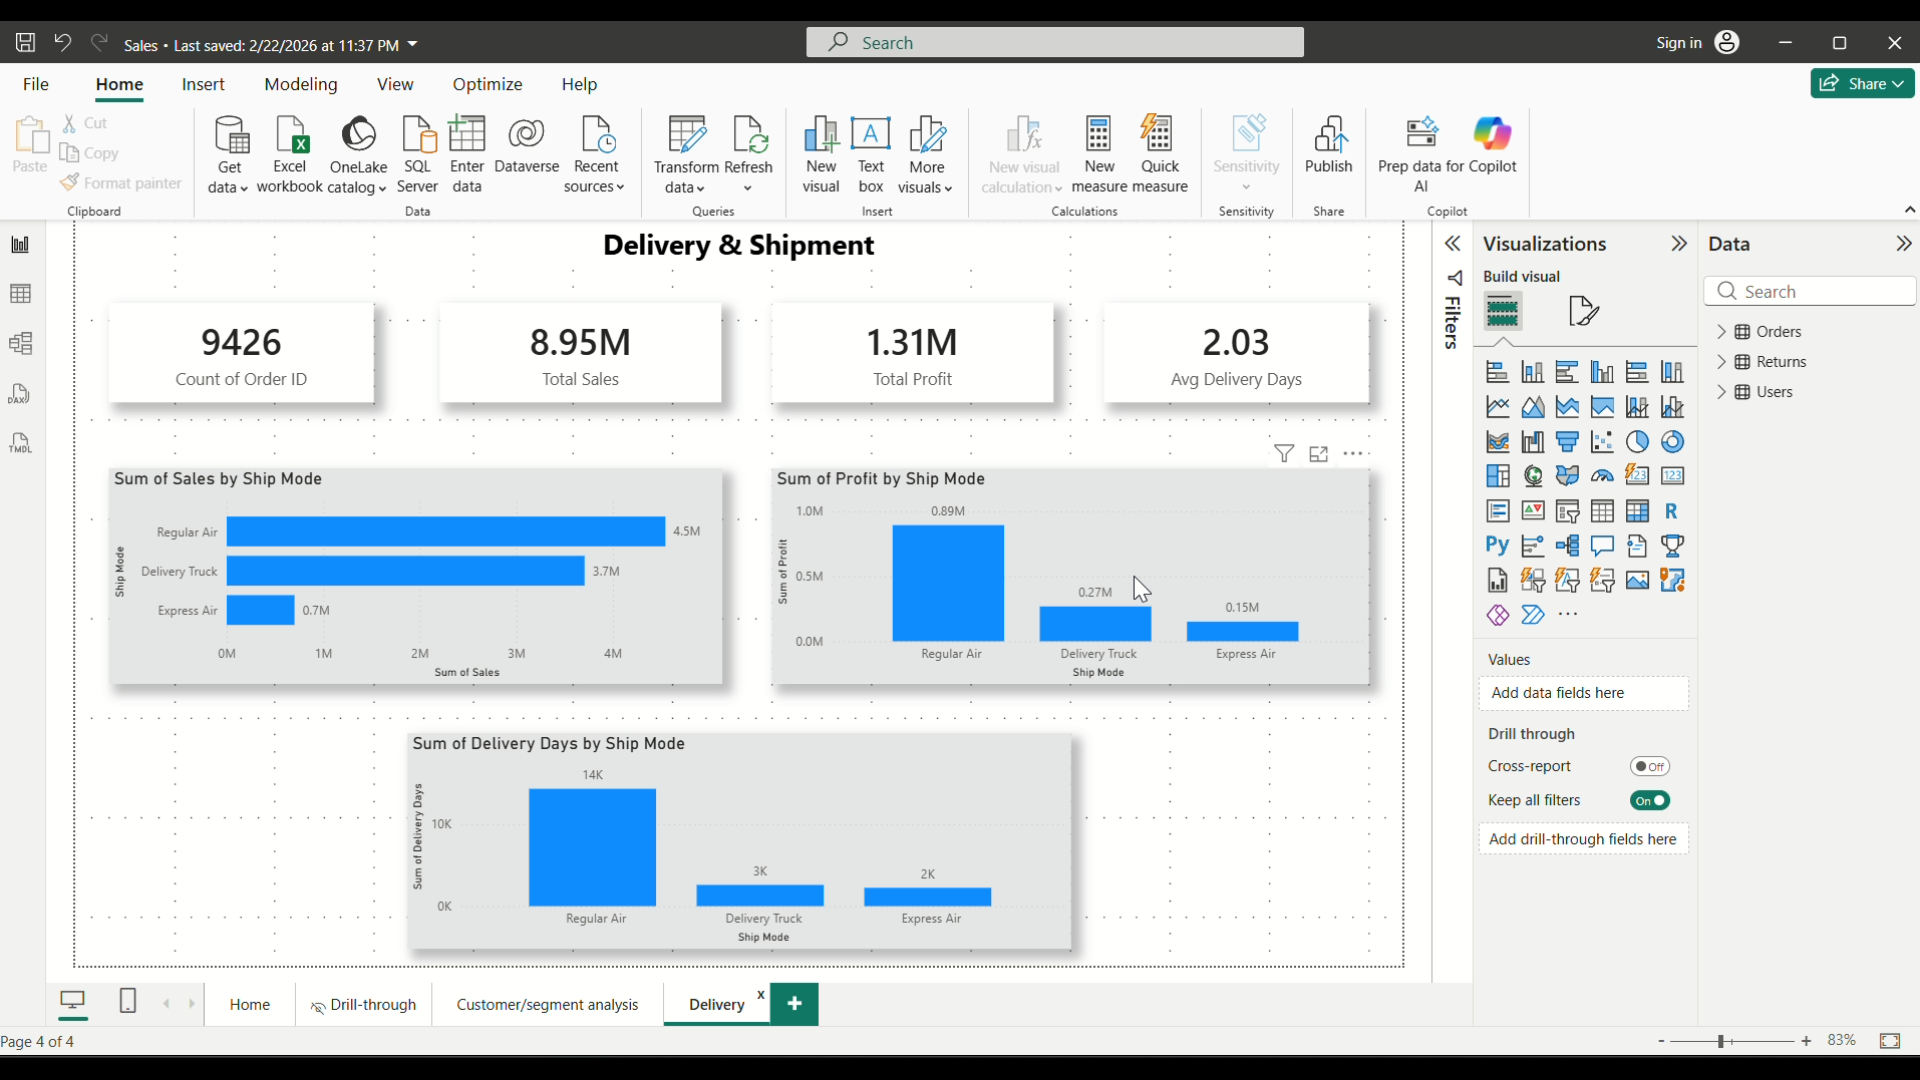

This screenshot's page, from the dashboard's own definition file:
{"tool":"powerbi","page":{"name":"Delivery","canvas":[1280,720],"ordinal":3},"visuals":[{"type":"textbox","box":[408,0,464,48],"z":0},{"type":"card","fields":{"Values":["CountNonNull(Orders.Order ID)"]},"box":[32,80,256,96],"z":1000},{"type":"card","fields":{"Values":["Orders.Total Sales"]},"box":[352,80,272,96],"z":2000},{"type":"card","fields":{"Values":["Orders.Total Profit"]},"box":[672,80,272,96],"z":3000},{"type":"card","fields":{"Values":["Orders.Avg Delivery Days"]},"box":[992,80,256,96],"z":4000},{"type":"barChart","fields":{"Y":["Sum(Orders.Sales)"],"Category":["Orders.Ship Mode"]},"box":[32,240,592,208],"z":5000},{"type":"columnChart","fields":{"Y":["Sum(Orders.Profit)"],"Category":["Orders.Ship Mode"]},"box":[672,240,576,208],"z":6000},{"type":"columnChart","fields":{"Category":["Orders.Ship Mode"],"Y":["Sum(Orders.Delivery Days)"]},"box":[320,496,640,208],"z":7000}]}

Visuals, with their boxes on the page's 1280x720 design canvas (x1, y1, x2, y2). These are canvas units, not pixel positions in the 1920x1080 screenshot, which may show the page scaled, cropped or inside an application window:
textbox: {"x1": 408, "y1": 0, "x2": 872, "y2": 48}
card - CountNonNull(Orders.Order ID): {"x1": 32, "y1": 80, "x2": 288, "y2": 176}
card - Orders.Total Sales: {"x1": 352, "y1": 80, "x2": 624, "y2": 176}
card - Orders.Total Profit: {"x1": 672, "y1": 80, "x2": 944, "y2": 176}
card - Orders.Avg Delivery Days: {"x1": 992, "y1": 80, "x2": 1248, "y2": 176}
barChart - Sum(Orders.Sales) x Orders.Ship Mode: {"x1": 32, "y1": 240, "x2": 624, "y2": 448}
columnChart - Sum(Orders.Profit) x Orders.Ship Mode: {"x1": 672, "y1": 240, "x2": 1248, "y2": 448}
columnChart - Orders.Ship Mode x Sum(Orders.Delivery Days): {"x1": 320, "y1": 496, "x2": 960, "y2": 704}
